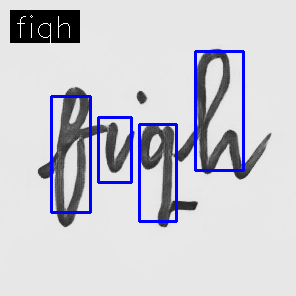f: (51, 83, 92, 228)
h: (192, 47, 249, 182)
i: (100, 112, 136, 177)
q: (138, 121, 184, 230)
